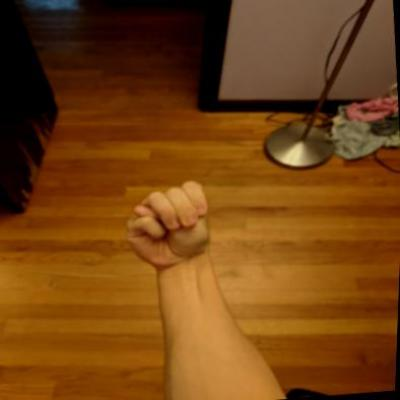hand: (118, 175, 225, 275)
